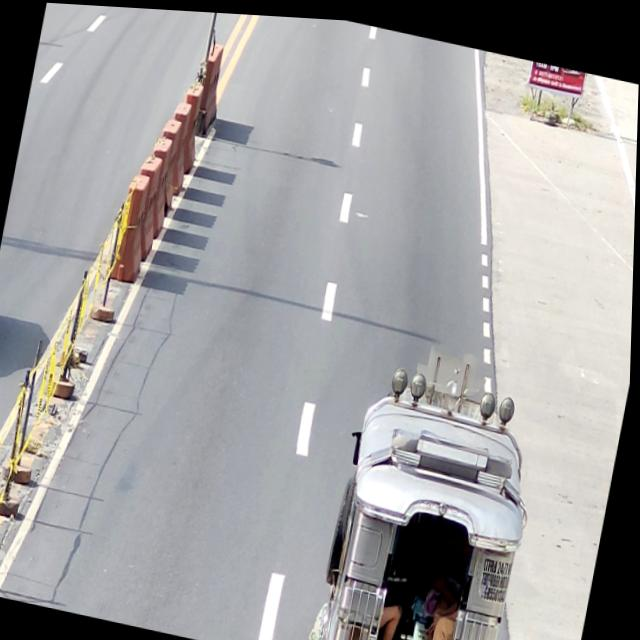Jeep: (313, 324, 557, 640)
